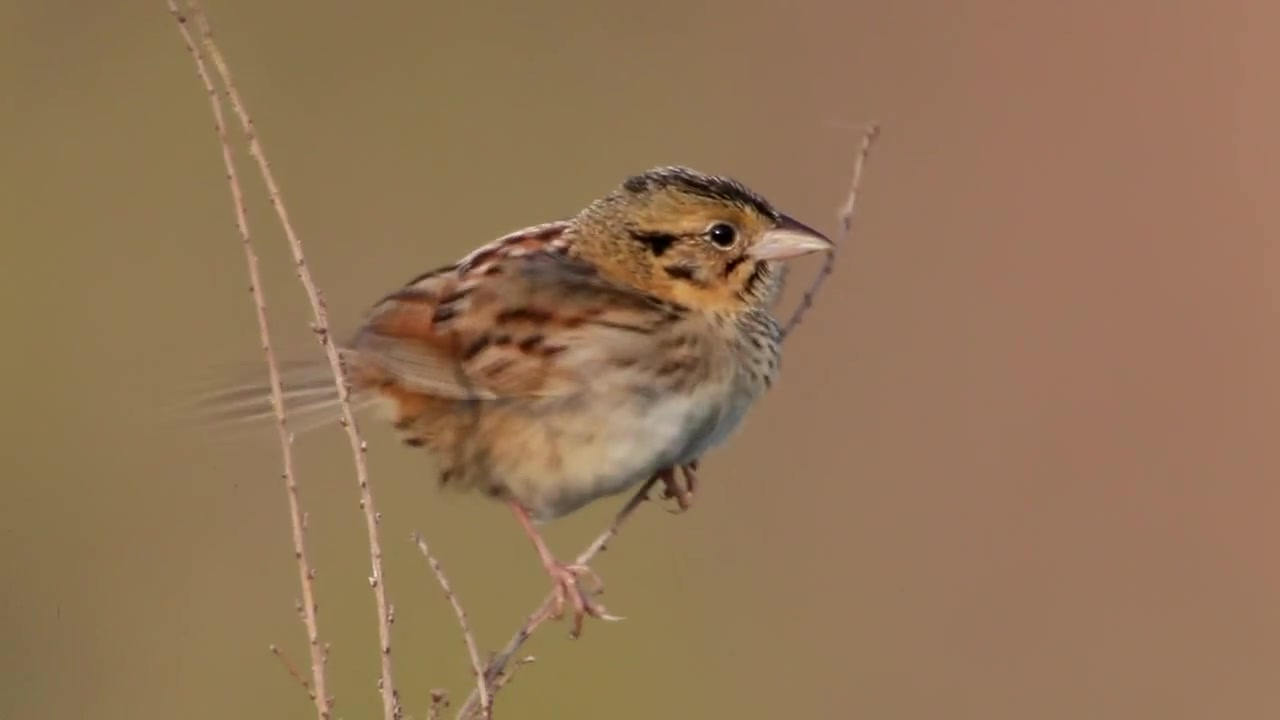bird: (178, 166, 837, 640)
